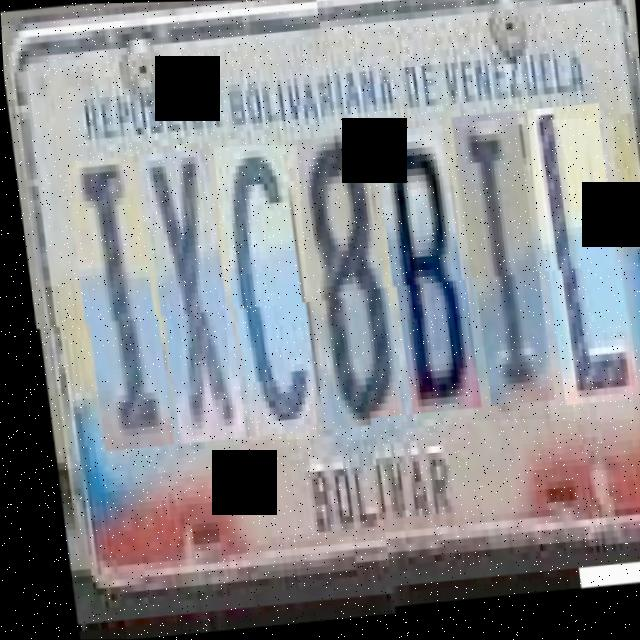8: (295, 138, 394, 434)
B: (373, 139, 474, 427)
C: (212, 145, 312, 440)
I: (63, 157, 164, 453), (452, 125, 548, 421)
L: (527, 118, 630, 421)
X: (139, 151, 236, 446)
